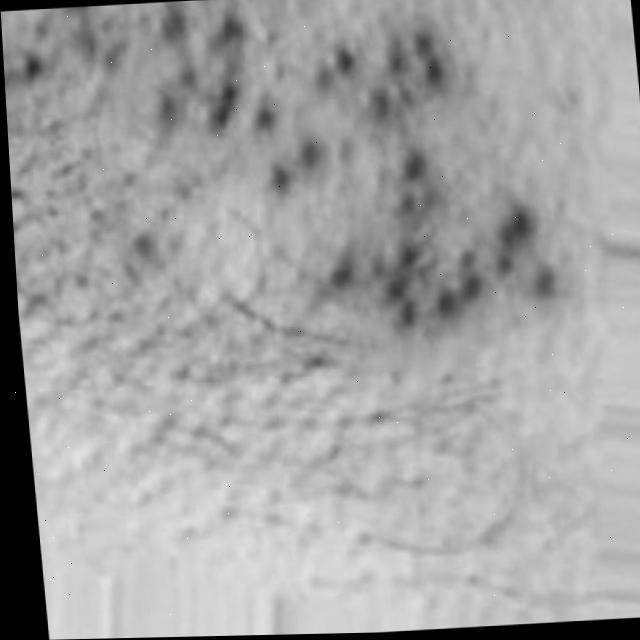Shingles: (50, 0, 531, 332)
